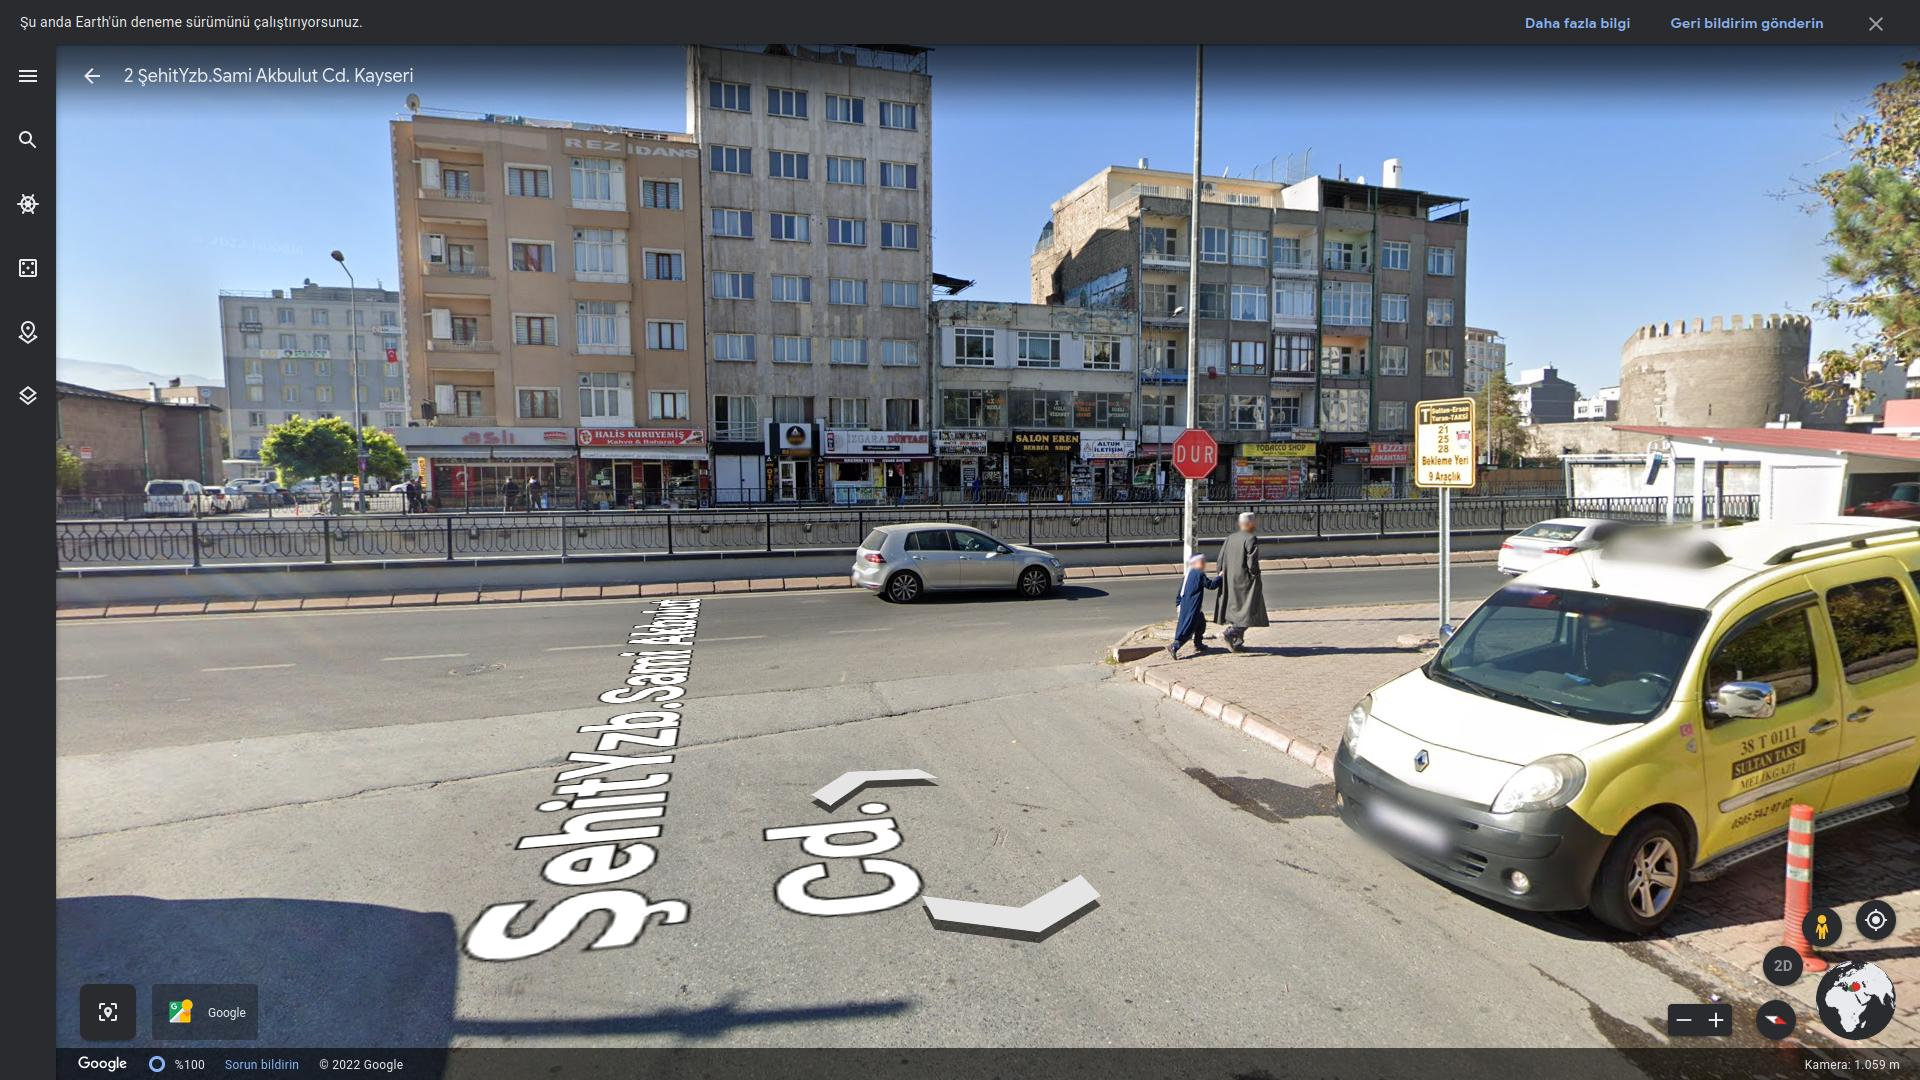stop: (1172, 429, 1220, 477)
